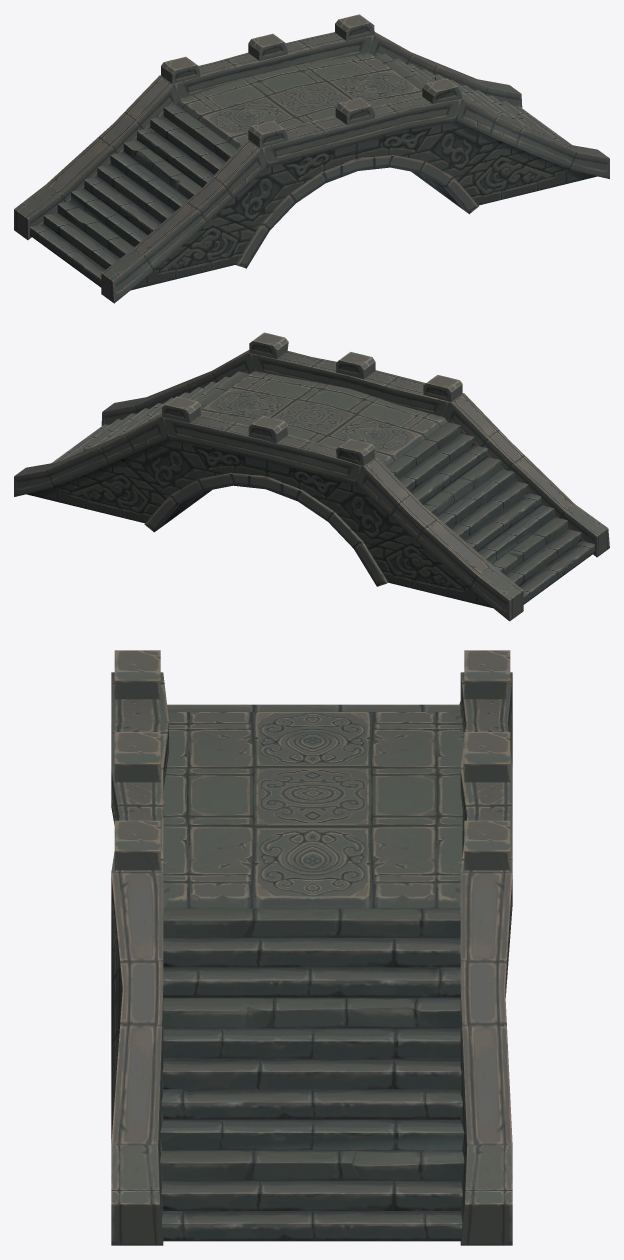
File: ZZL_Item_02.FBX
The picture shows the model from 3 angles, top to bottom: view 1: azimuth 30°, elevation 25°; view 2: azimuth 150°, elevation 25°; view 3: azimuth 270°, elevation 25°; orthographic projection. The views are drawn at different scales.
Visible parts, largest first — view 1: ZZL_Item_02; view 2: ZZL_Item_02; view 3: ZZL_Item_02.
Boxes of the visible parts, x1,y1,x2,y2 form: ZZL_Item_02: (14, 14, 609, 303); ZZL_Item_02: (14, 332, 609, 621); ZZL_Item_02: (111, 650, 512, 1245).
Size of the model in its own units: 1524 by 396 by 534.
Materials: 1 (1 with a texture image).
